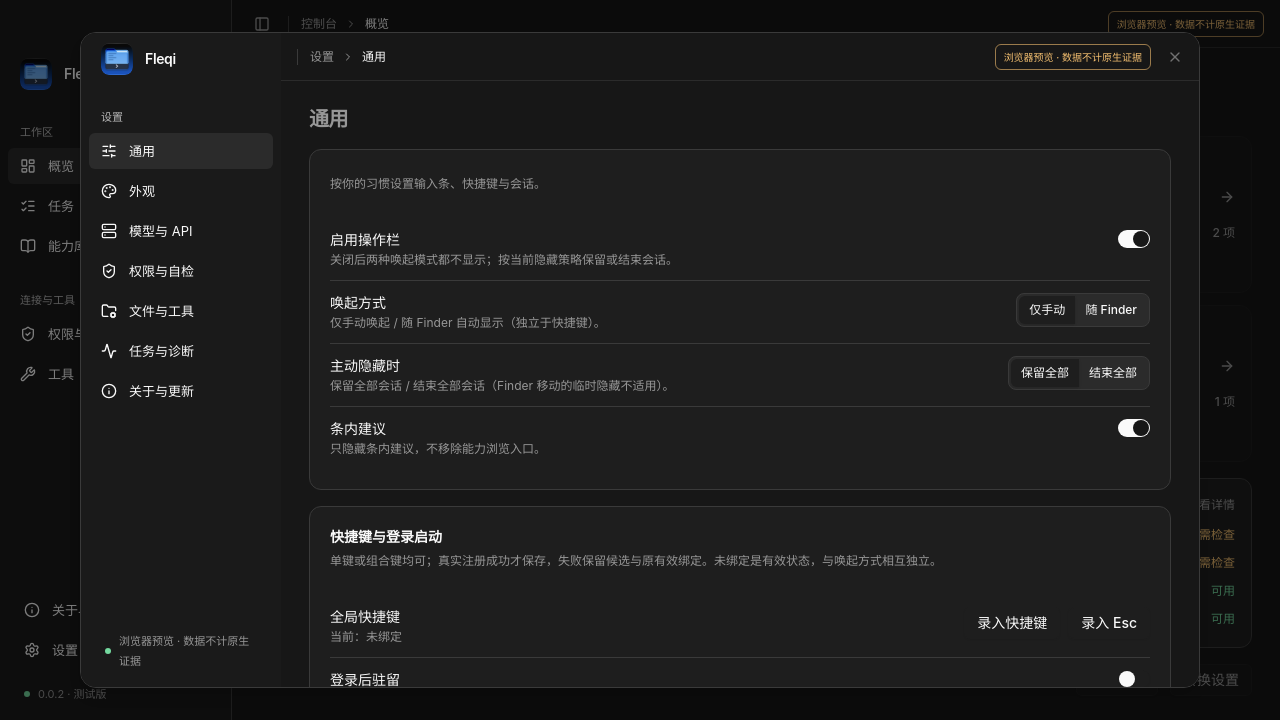
Test: 设置 · 通用（M2 真实保存） › 关闭操作栏真实保存（FR-SET-001，barEnabled）
Click the switch named "启用操作栏" in the row of "启用操作栏" at (1134, 239), box [1118,230,1150,248]
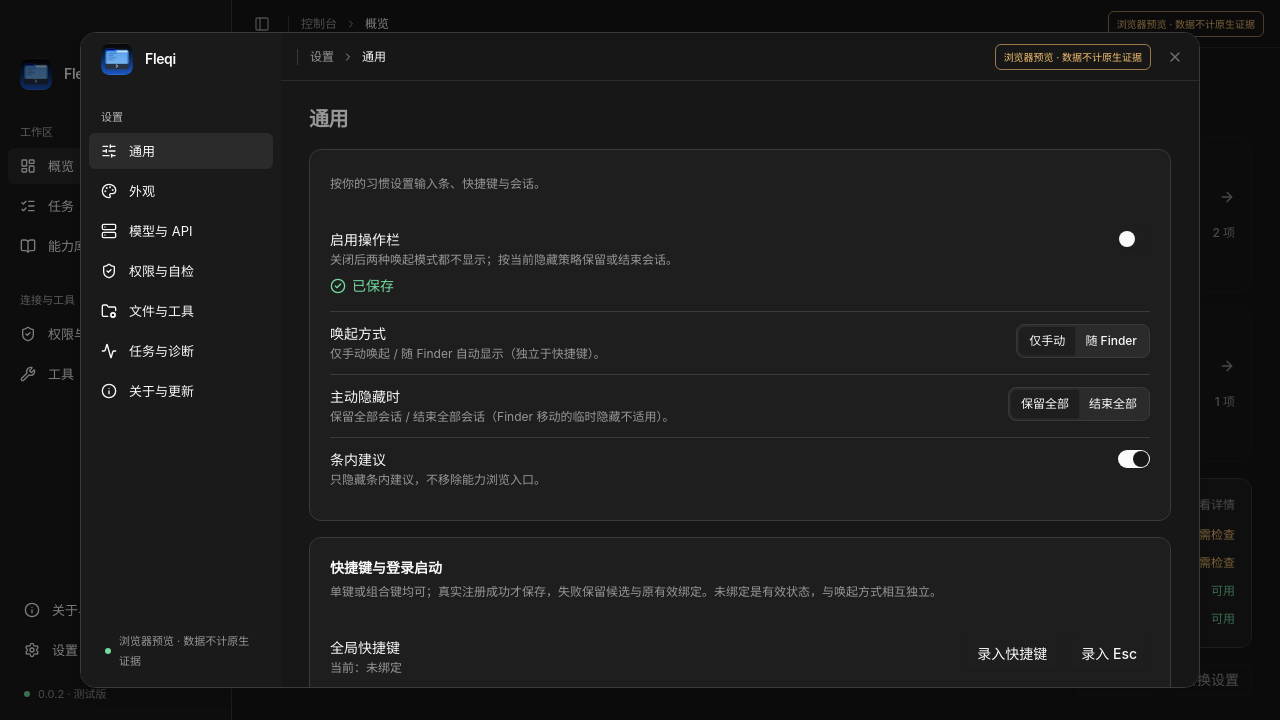
Now the text "已保存" is shown, box [352,276,394,296]
